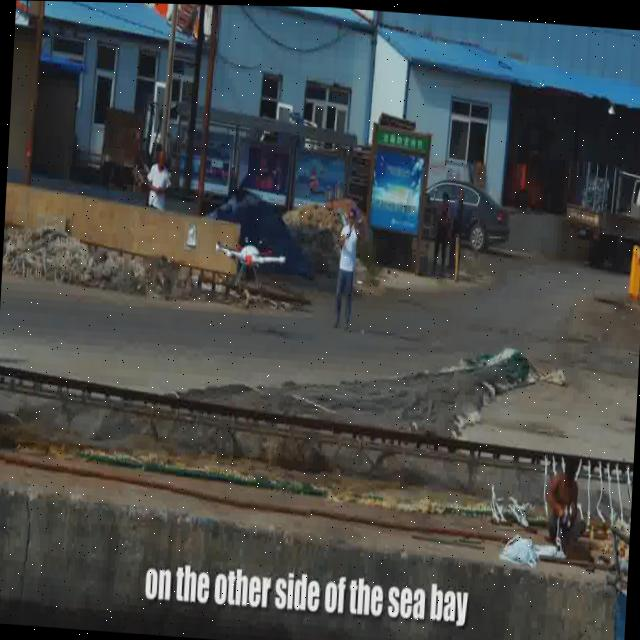drone: (212, 225, 287, 280)
